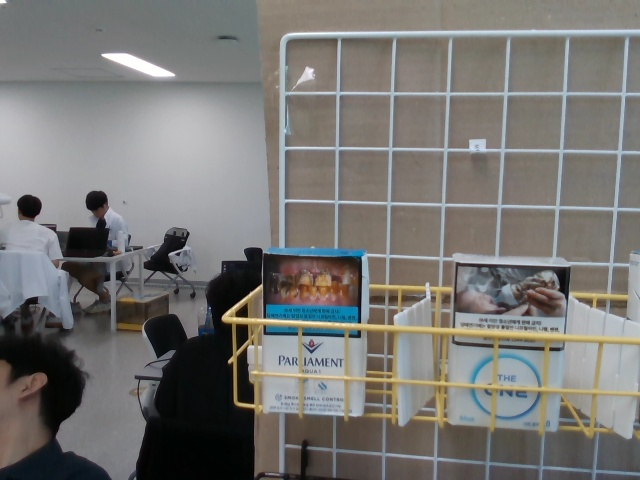parliament: (262, 249, 368, 417)
the one: (453, 253, 561, 431)
